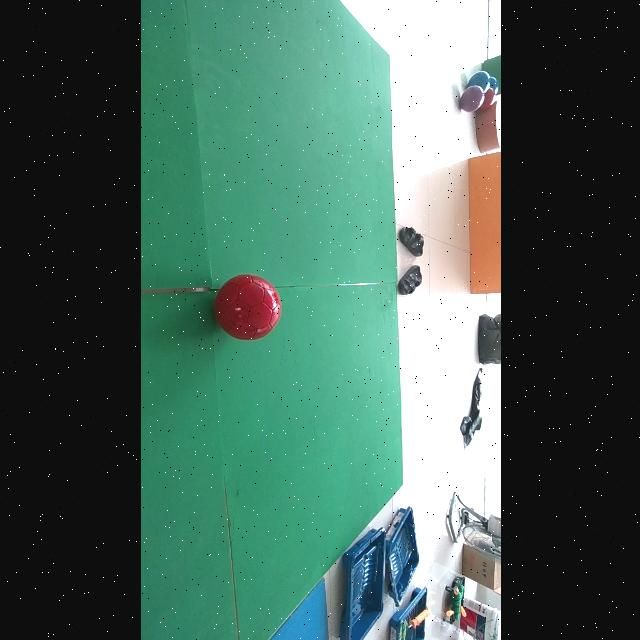B: (467, 70, 489, 92)
P: (458, 86, 484, 113)
R: (213, 275, 280, 340)
